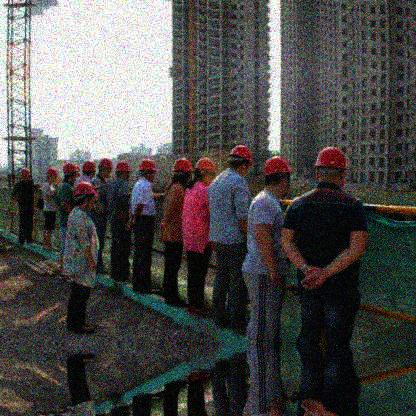helmet: (313, 147, 348, 189), (264, 154, 293, 199), (229, 144, 252, 178), (194, 157, 217, 186), (73, 184, 97, 207), (173, 158, 193, 185), (137, 160, 157, 181), (116, 160, 132, 181), (98, 158, 113, 179), (64, 163, 80, 180), (83, 161, 95, 179), (47, 168, 58, 183), (19, 170, 33, 181)
